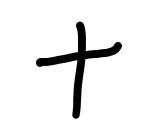plus: (36, 22, 121, 119)
